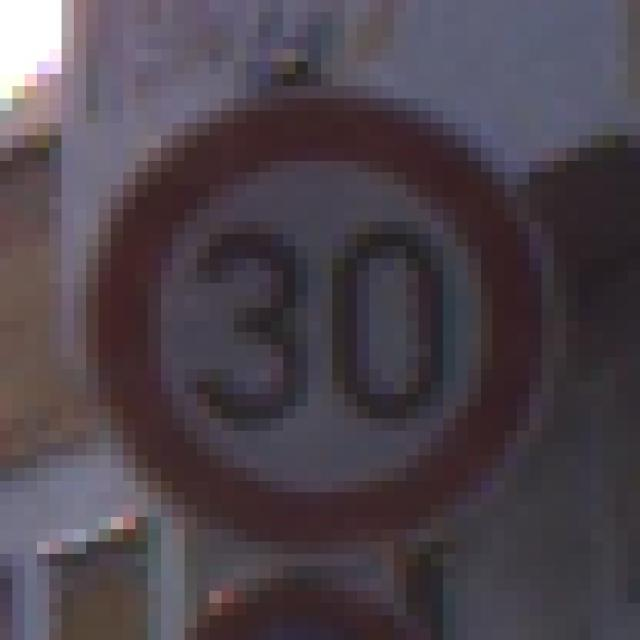Speed Limit 30 KMPh: (49, 62, 578, 566)
